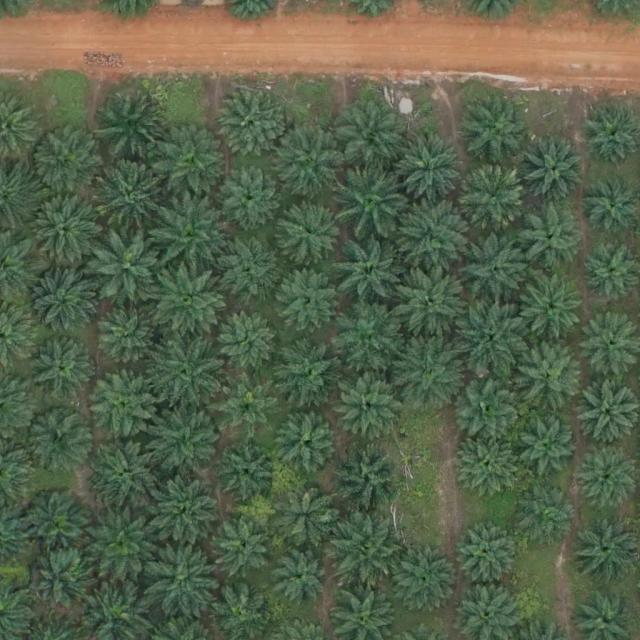Healthy: (460, 94, 531, 165), (217, 91, 288, 162), (86, 509, 157, 580), (85, 367, 156, 438), (92, 230, 163, 301), (514, 206, 584, 277), (512, 338, 583, 408), (390, 545, 460, 616), (455, 299, 526, 369), (460, 234, 530, 305), (397, 134, 467, 205), (394, 205, 465, 275), (397, 265, 467, 336), (392, 339, 463, 409), (334, 302, 404, 373), (334, 236, 404, 307), (338, 165, 408, 236), (278, 127, 348, 198), (274, 337, 345, 407), (331, 441, 401, 512), (154, 129, 224, 200), (156, 201, 226, 272), (157, 265, 227, 336), (154, 408, 224, 479), (151, 474, 221, 545), (144, 552, 215, 622), (90, 437, 161, 507), (99, 89, 169, 160), (30, 127, 101, 197), (31, 192, 102, 262), (24, 404, 94, 475), (338, 377, 408, 447), (337, 104, 407, 174), (332, 522, 402, 592), (212, 234, 282, 304), (153, 339, 223, 409), (94, 159, 164, 229), (27, 270, 97, 340), (27, 337, 97, 407), (22, 488, 92, 558), (574, 448, 637, 511), (520, 279, 583, 342), (515, 484, 578, 547), (459, 525, 522, 588), (279, 199, 342, 262), (279, 416, 342, 479), (578, 519, 640, 582), (522, 141, 584, 204), (456, 377, 518, 440), (277, 485, 339, 548), (214, 515, 277, 577), (219, 438, 281, 501), (218, 374, 280, 437), (215, 308, 277, 371), (218, 163, 280, 226), (95, 305, 158, 367), (32, 549, 94, 612), (516, 416, 578, 478), (459, 434, 521, 496), (279, 269, 341, 331), (273, 551, 327, 606)
Yellow: (458, 165, 528, 235)
